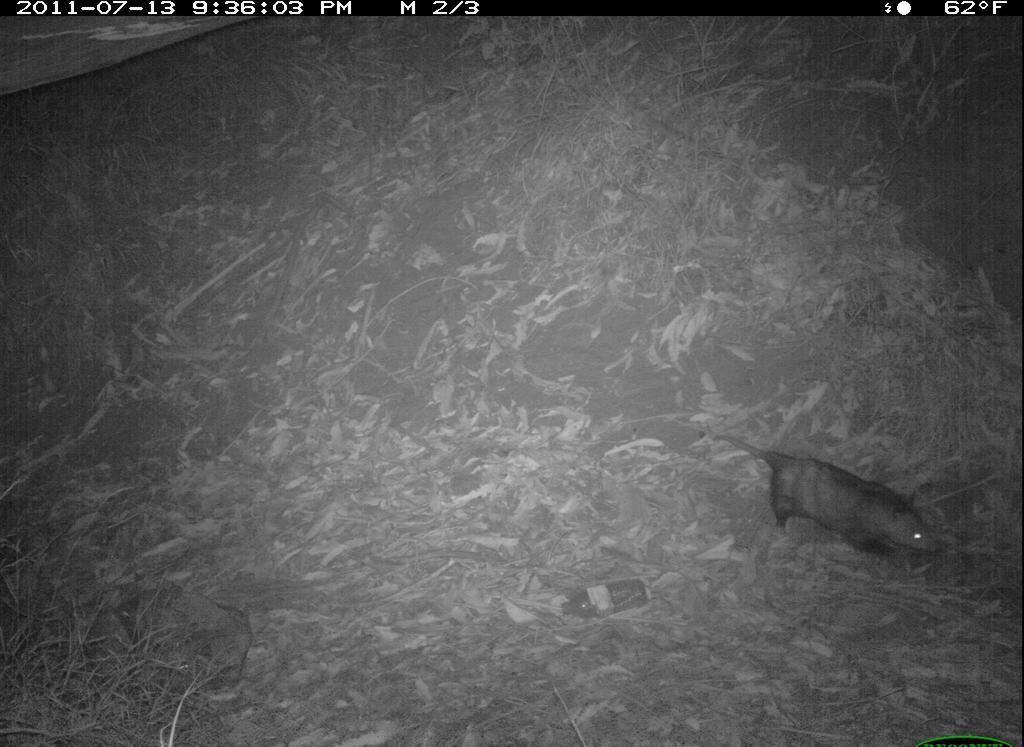opossum: (708, 424, 944, 569)
